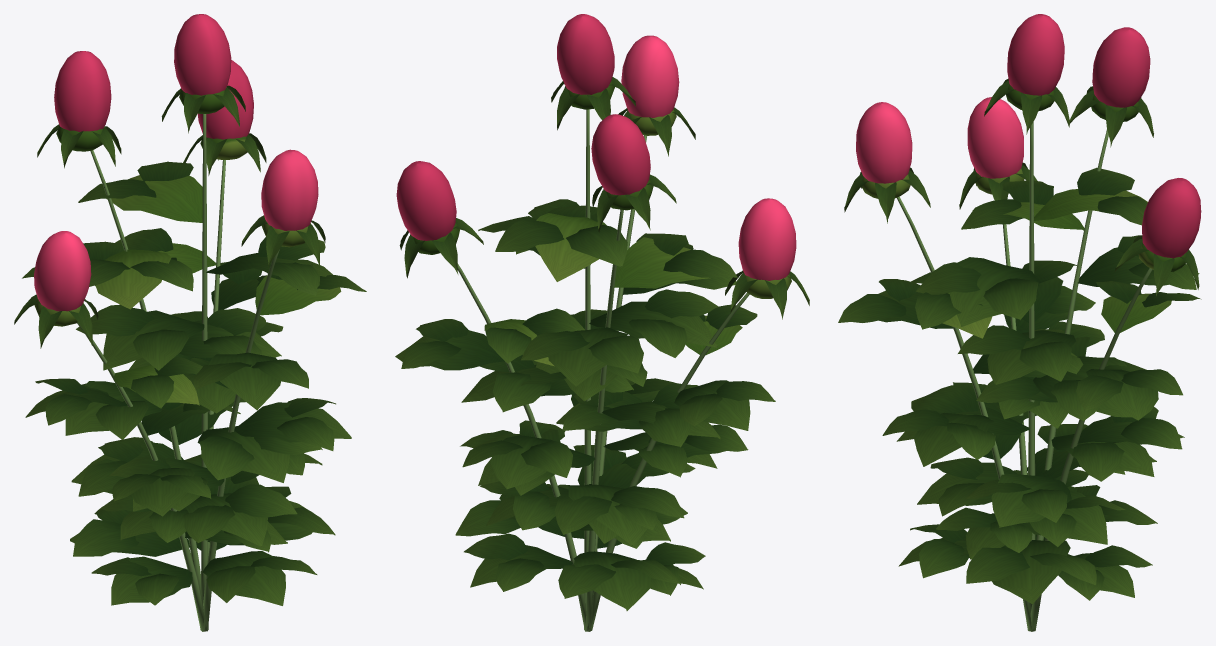
File: dahlia-08-lod.glb
3 renders of one model, left to right at view 1: azimuth 30°, elevation 25°; view 2: azimuth 150°, elevation 25°; view 3: azimuth 270°, elevation 25°, orthographic.
Visible parts, largest first — view 1: dahlia_stage_08_leaf_veins.015, dahlia_stage_08_dahlia_petal.015, dahlia_stage_08_young_leaf.015, dahlia_stage_08_stem_fibres.015; view 2: dahlia_stage_08_leaf_veins.015, dahlia_stage_08_dahlia_petal.015, dahlia_stage_08_young_leaf.015, dahlia_stage_08_stem_fibres.015; view 3: dahlia_stage_08_leaf_veins.015, dahlia_stage_08_dahlia_petal.015, dahlia_stage_08_young_leaf.015, dahlia_stage_08_stem_fibres.015.
Part boxes in pixels (x1,y1,x2,y2): dahlia_stage_08_leaf_veins.015: (14,85,366,605); dahlia_stage_08_dahlia_petal.015: (34,14,318,311); dahlia_stage_08_young_leaf.015: (34,87,341,405); dahlia_stage_08_stem_fibres.015: (77,114,279,631); dahlia_stage_08_leaf_veins.015: (395,77,809,610); dahlia_stage_08_dahlia_petal.015: (396,14,796,280); dahlia_stage_08_young_leaf.015: (410,81,791,366); dahlia_stage_08_stem_fibres.015: (457,109,749,631); dahlia_stage_08_leaf_veins.015: (838,78,1201,604); dahlia_stage_08_dahlia_petal.015: (856,14,1201,258); dahlia_stage_08_young_leaf.015: (862,84,1186,338); dahlia_stage_08_stem_fibres.015: (897,122,1152,631).
Bounding box in the file's own units: 0.3676 × 0.6479 × 0.3473.
Materials: 4 (3 with a texture image).
